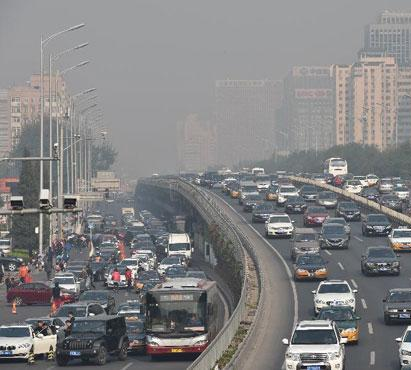bus: (143, 276, 220, 360), (322, 155, 348, 180)
car: (55, 315, 129, 367), (282, 317, 348, 370), (1, 323, 58, 360), (50, 301, 107, 338), (313, 304, 361, 345), (310, 278, 358, 318), (6, 278, 76, 304), (19, 315, 69, 349), (359, 244, 401, 275), (117, 314, 146, 356), (381, 286, 411, 326), (291, 251, 330, 280), (75, 288, 114, 315), (164, 232, 194, 265), (289, 231, 324, 259), (319, 221, 350, 249), (48, 272, 80, 299), (61, 265, 92, 290), (64, 260, 95, 285), (361, 212, 393, 236), (263, 212, 295, 236), (103, 264, 134, 287), (156, 253, 188, 275), (116, 258, 148, 280), (134, 269, 163, 293), (395, 324, 411, 366), (85, 259, 114, 282), (321, 215, 352, 236), (387, 227, 411, 253), (335, 200, 361, 222), (303, 204, 330, 225), (130, 250, 157, 271), (251, 201, 279, 221), (275, 184, 300, 205), (1, 250, 24, 272), (329, 173, 357, 191), (284, 194, 307, 215), (230, 180, 255, 199), (379, 194, 404, 213), (358, 185, 382, 204), (316, 189, 338, 209), (242, 193, 264, 212), (391, 182, 411, 202), (253, 173, 272, 193), (264, 181, 285, 199), (342, 178, 364, 195), (377, 177, 396, 195), (239, 183, 259, 200)
person: (31, 318, 50, 360), (41, 323, 56, 359), (66, 310, 77, 347), (63, 319, 73, 351), (111, 266, 121, 296), (51, 281, 61, 311), (124, 267, 133, 294)
